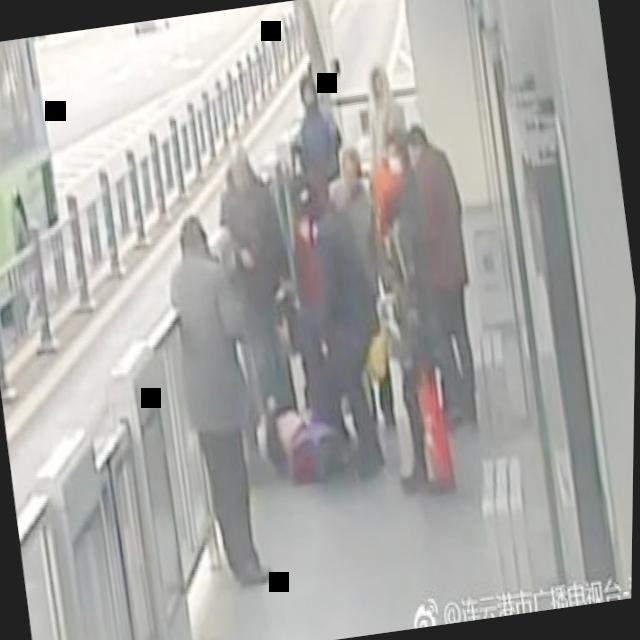Fall-Detected: (245, 376, 372, 494)
